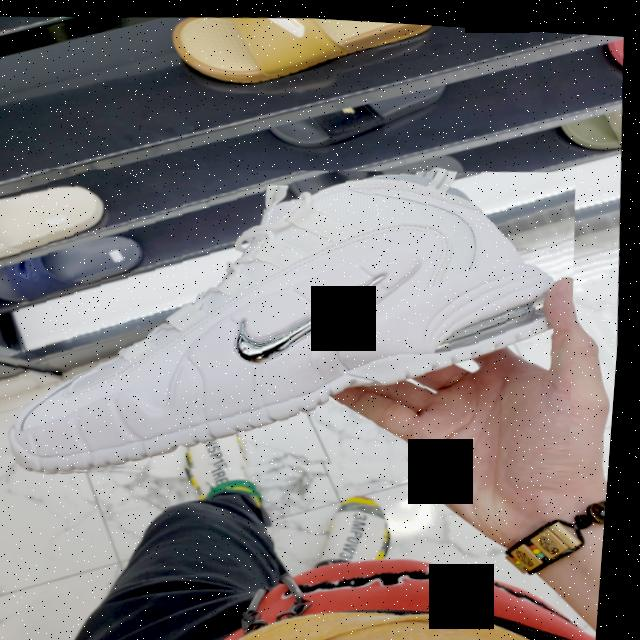shoe: (0, 138, 593, 501)
